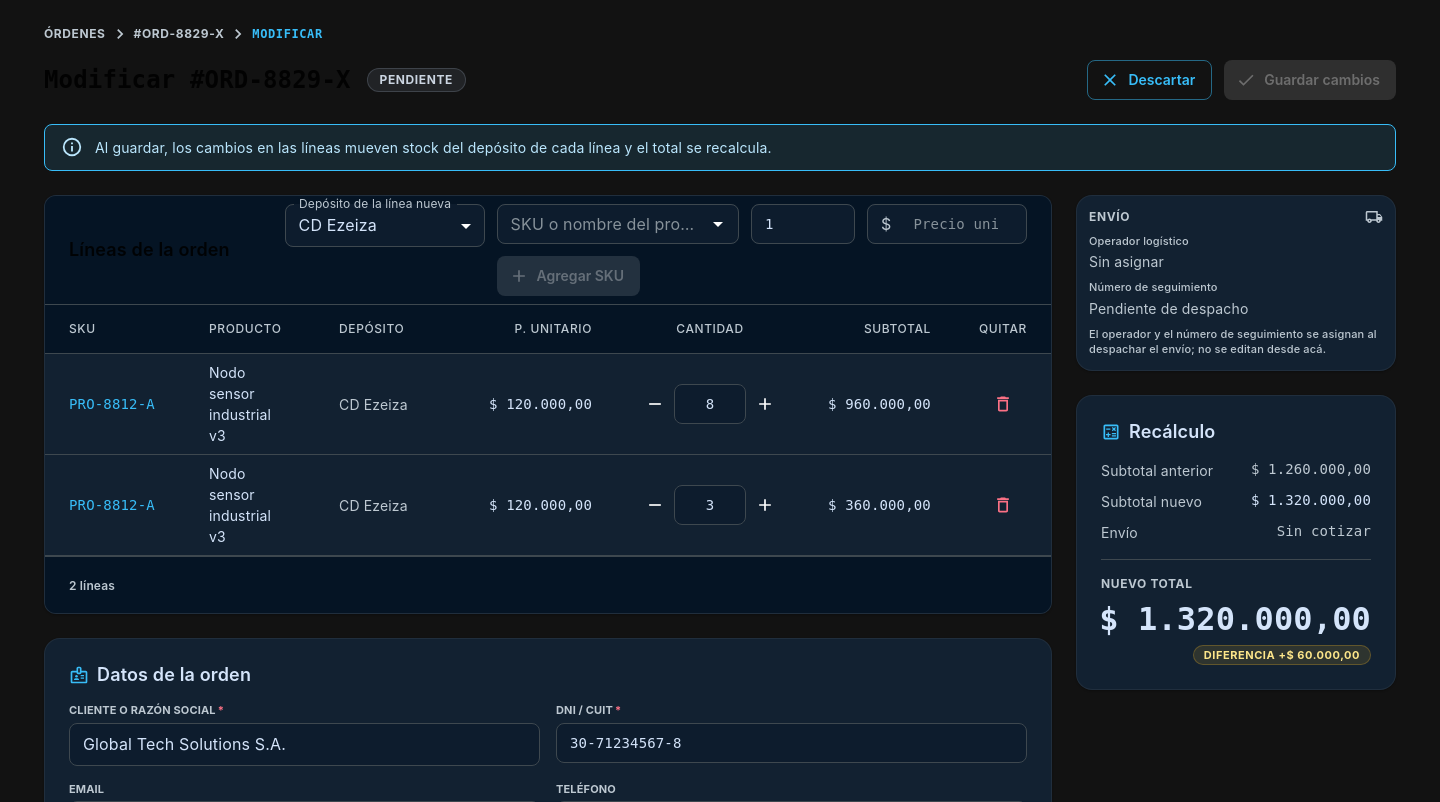
Test: OrderEditPage › warns about the group and leaves the line that went down alone
The width and height of the screenshot is (1440, 802).
Replace the text in the number field named "Cantidad de PRO-8812-A" next to "$ 960.000,00" with "14" at (710, 404), box [674,384,746,424]
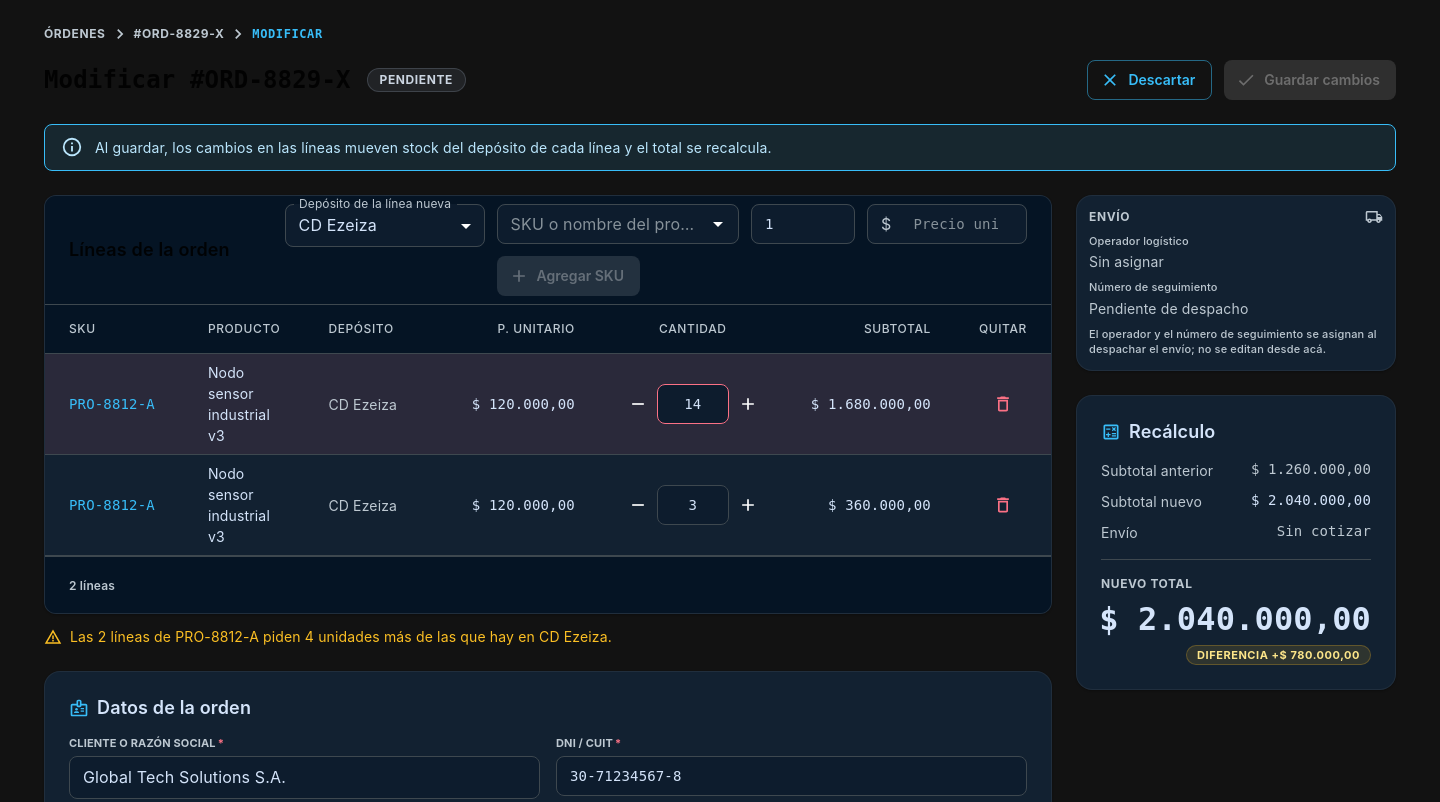
Replace the text in the number field named "Cantidad de PRO-8812-A" next to "$ 360.000,00" with "1" at (693, 505), box [657,485,729,525]
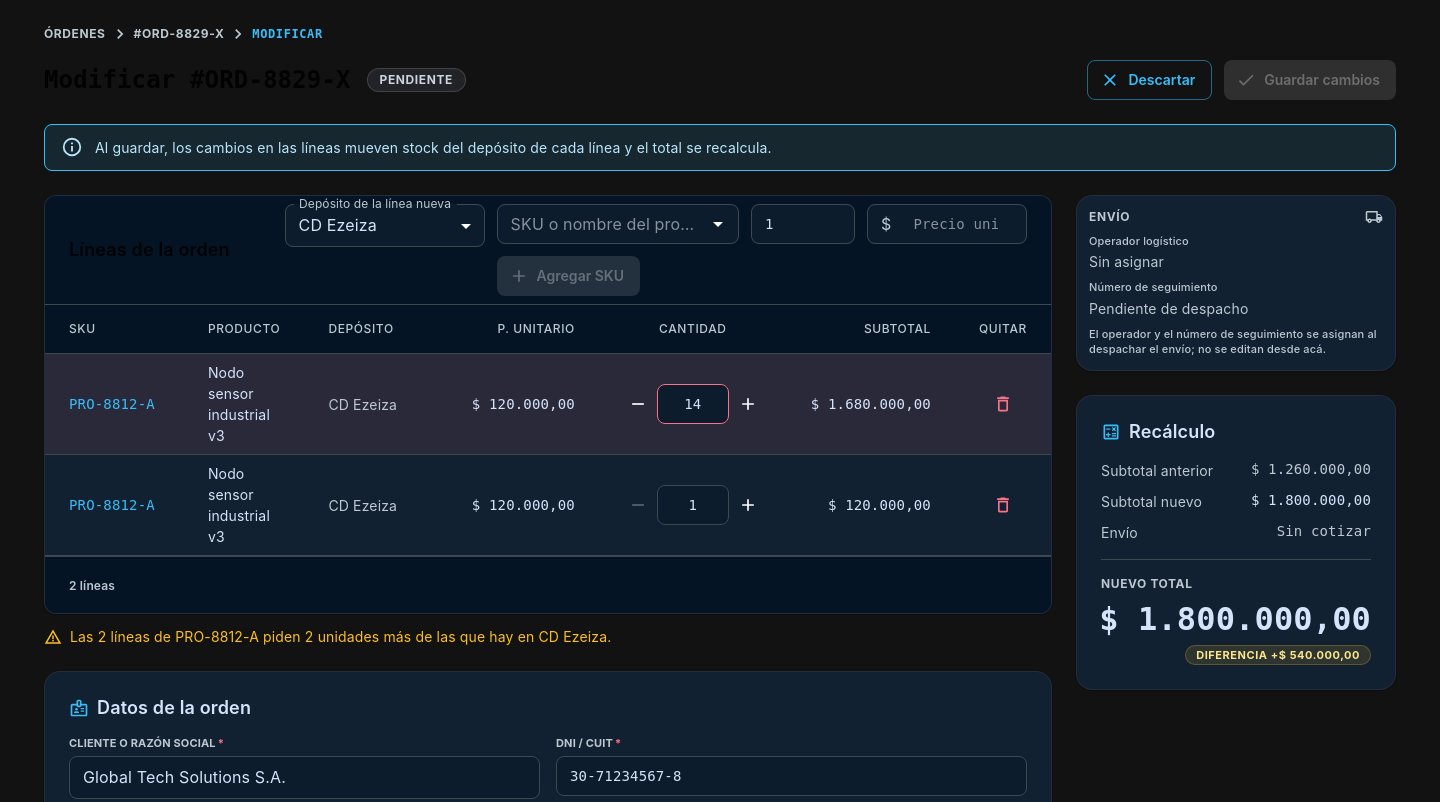
Expected: the button "Guardar cambios" is disabled, [1224,60,1396,100]
Expected: the text "Las 2 líneas de PRO-8812-A piden 2 unidades más de las que hay en CD Ezeiza." is shown, [70,626,611,647]
